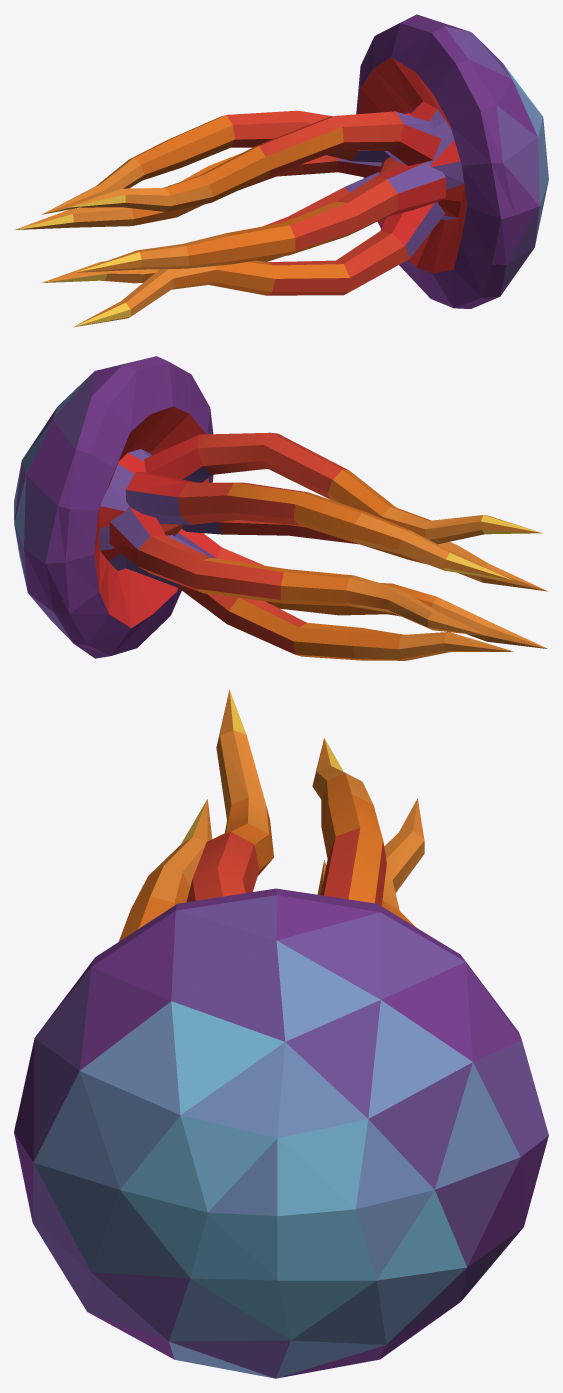
Rendered from jellyfish.glb.
The picture shows the model from 3 angles, top to bottom: view 1: azimuth 30°, elevation 25°; view 2: azimuth 150°, elevation 25°; view 3: azimuth 270°, elevation 25°; orthographic projection. The views are drawn at different scales.
Visible parts, largest first — view 1: tenticles, body; view 2: tenticles, body; view 3: body, tenticles.
Part boxes in pixels (x1,y1,x2,y2): tenticles: (15, 110, 445, 327); body: (356, 14, 548, 308); tenticles: (109, 432, 548, 660); body: (14, 356, 213, 658); body: (14, 888, 548, 1378); tenticles: (118, 689, 424, 941).
Size of the model in its own units: 3.2 by 1.71 by 1.72.
Materials: 1 (1 with a texture image).
